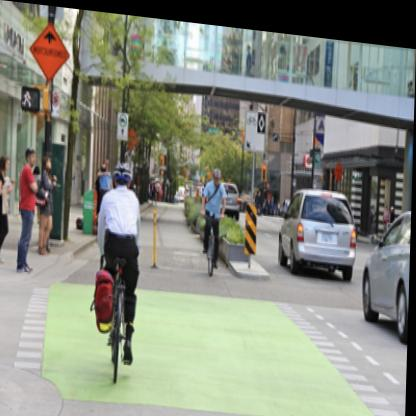With Helmet: (113, 156, 136, 184), (212, 159, 227, 182)
